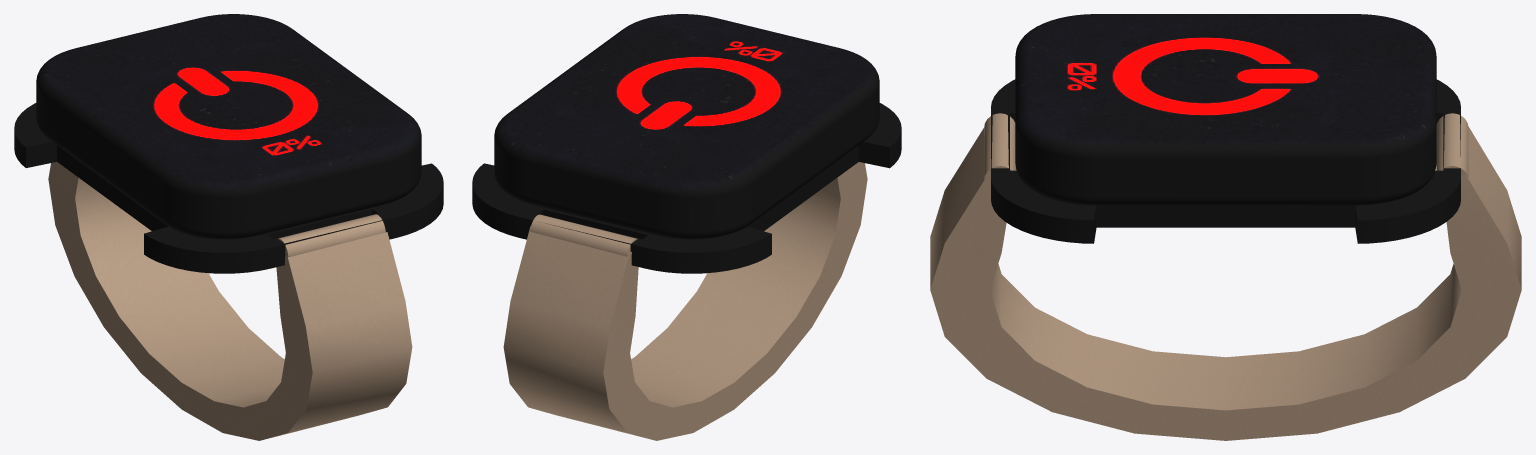
The model's file is watch4.glb.
The picture shows the model from 3 angles, left to right: view 1: azimuth 30°, elevation 25°; view 2: azimuth 150°, elevation 25°; view 3: azimuth 270°, elevation 25°; orthographic projection. The views are drawn at different scales.
Visible parts, largest first — view 1: pCube2; view 2: pCube2; view 3: pCube2.
Part boxes in pixels (box(x1,y1,x2,y2)): pCube2: box(14, 14, 443, 440); pCube2: box(472, 14, 901, 440); pCube2: box(930, 14, 1521, 440).
Bounding box in the file's own units: 0.0288 × 0.0287 × 0.0458.
Materials: 1 (1 with a texture image).
